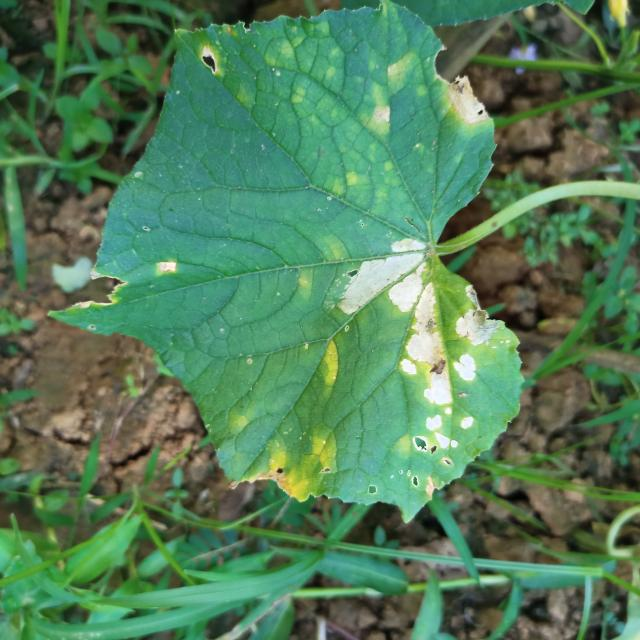disease_cucumber: (337, 233, 495, 514), (334, 45, 423, 140), (264, 421, 342, 507), (316, 334, 352, 392)
